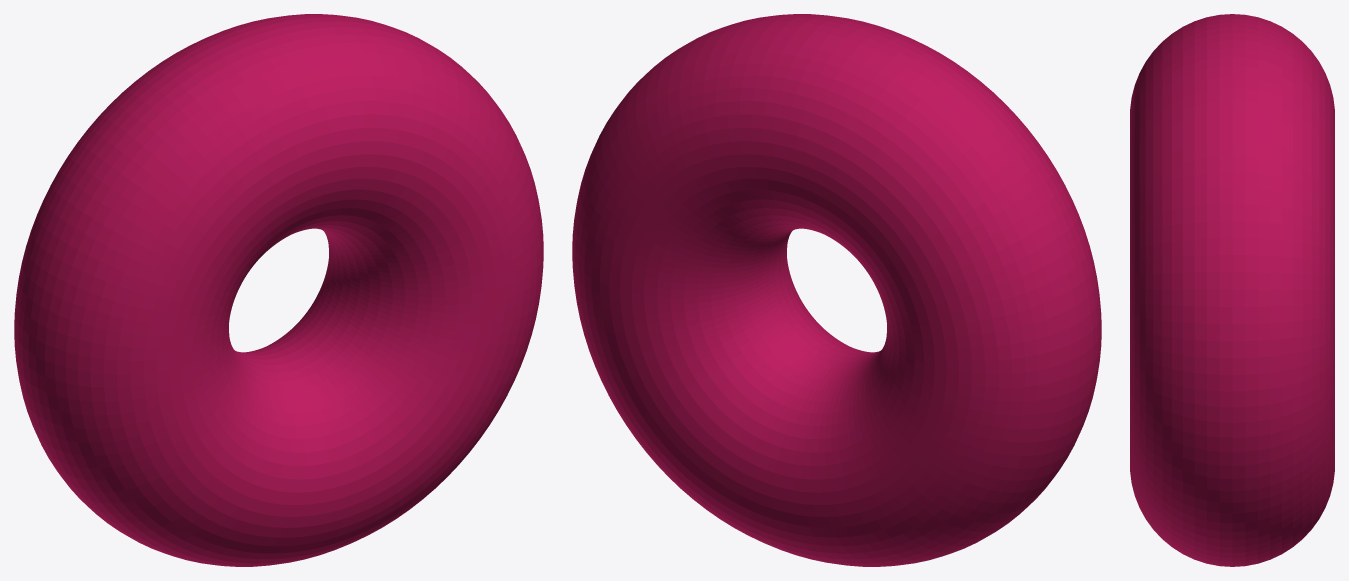
3 views of the same model, side by side, from view 1: azimuth 30°, elevation 25°; view 2: azimuth 150°, elevation 25°; view 3: azimuth 270°, elevation 25° (orthographic). The views are drawn at different scales.
Visible parts, largest first — view 1: world; view 2: world; view 3: world.
Part boxes in pixels (left/top/right/bottom): world: left=14, top=14, right=543, bottom=566; world: left=572, top=14, right=1101, bottom=566; world: left=1130, top=14, right=1334, bottom=566.
Bounding box in the file's own units: 23.33 × 23.33 × 8.65.
